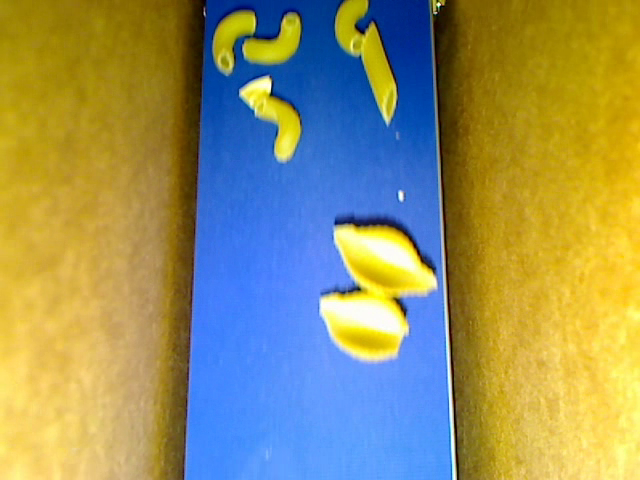elbow: (253, 92, 302, 164), (242, 12, 301, 66), (211, 9, 257, 76), (335, 1, 368, 58)
penne: (359, 22, 396, 126)
shell: (333, 221, 438, 300), (319, 290, 410, 364)
